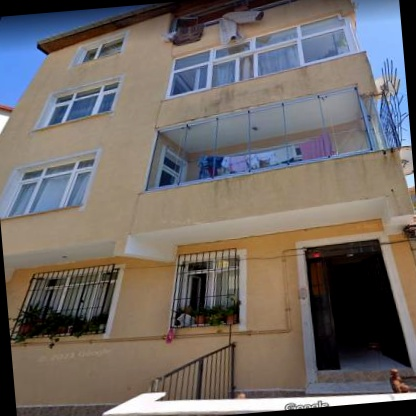door: (365, 255, 407, 367), (309, 260, 336, 370)
